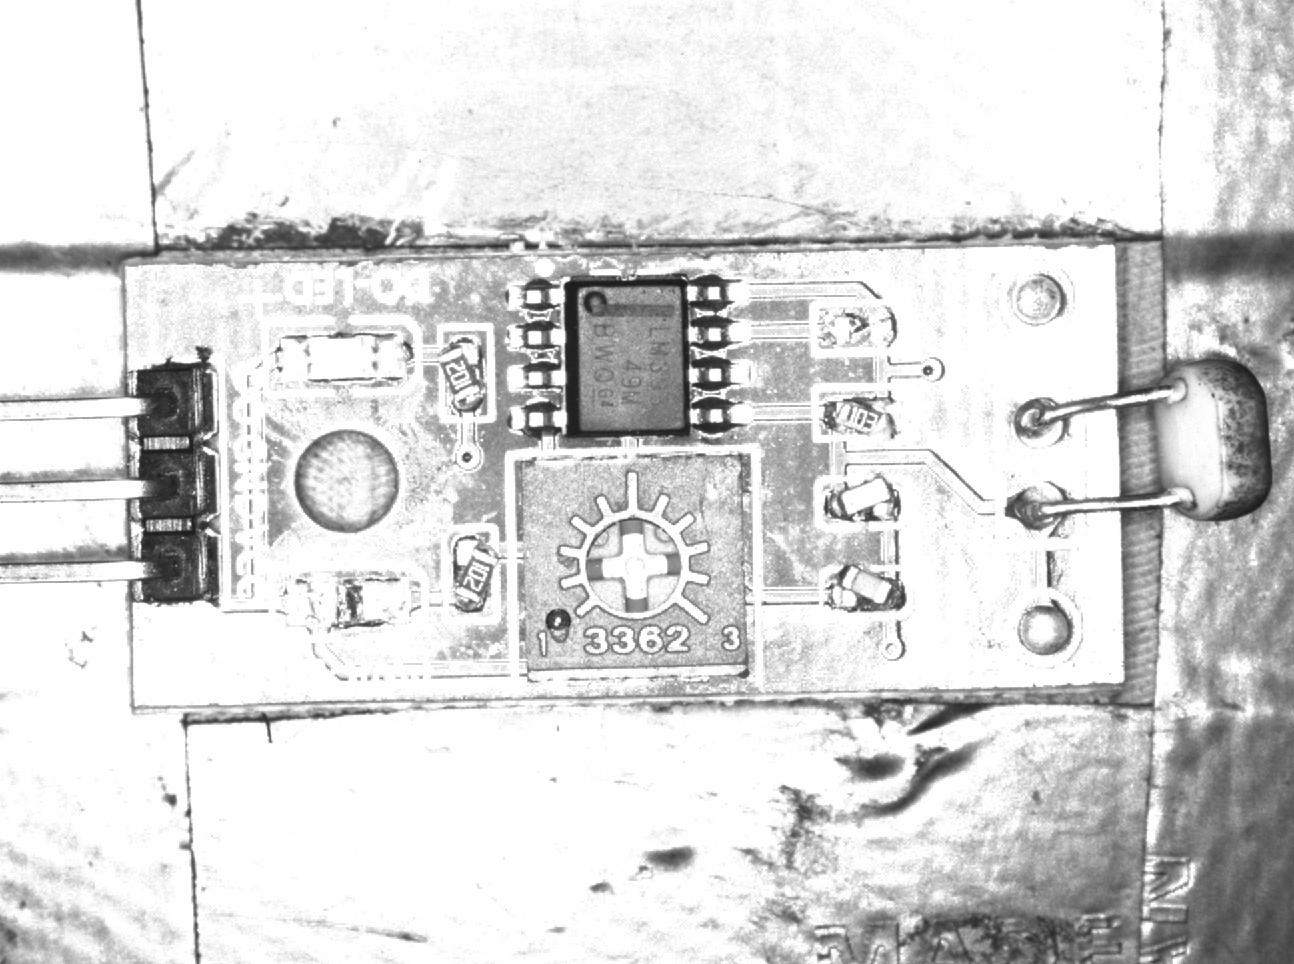lifted: (437, 325, 496, 421), (821, 565, 915, 619), (816, 386, 906, 439), (450, 528, 499, 621), (819, 476, 906, 527)
miss: (811, 304, 900, 352)
